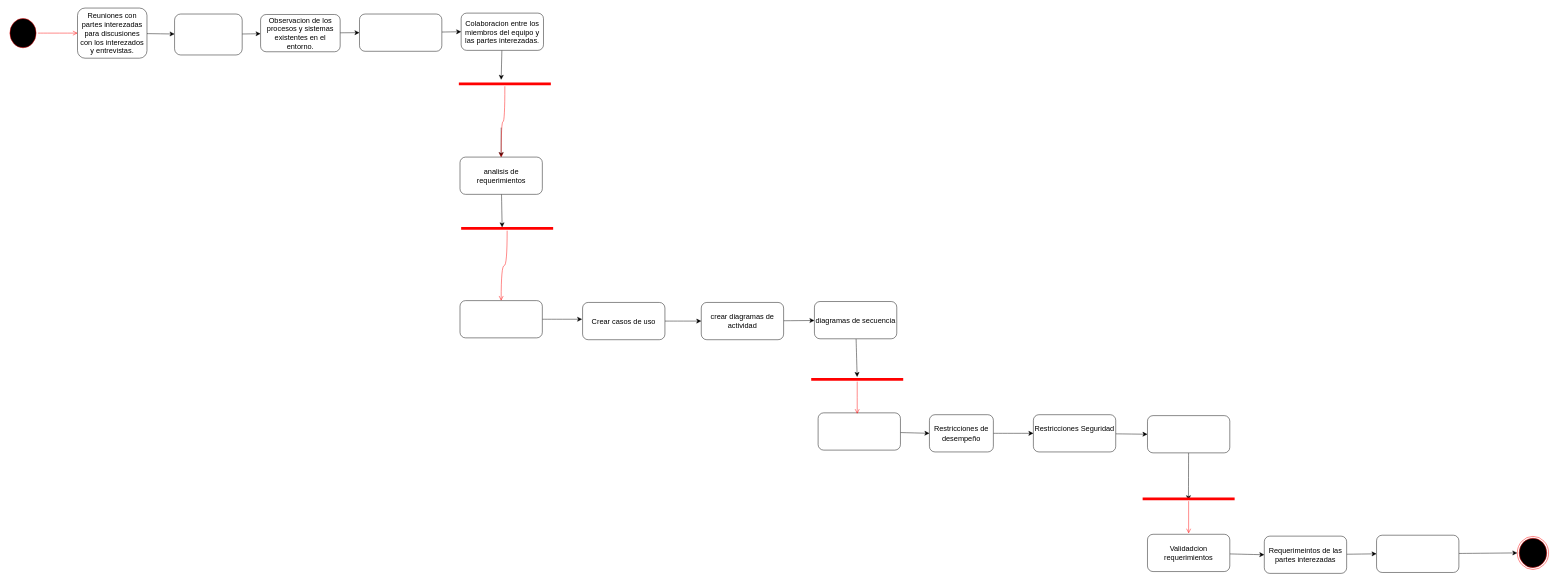
Some shapes in this 1557 by 581 pixel diagram are drawn without their labels. Here are the shapes that lost their labels. From the top down, the box of each, then its label:
(174, 14, 242, 55): Revision de la documentacion
(359, 14, 442, 51): Recopilacion de informacion a través de cuestionarios.
(460, 300, 542, 338): Modelacion y especificacion de requerimientos
(818, 412, 900, 450): Validacion Requerimientos
(1147, 415, 1230, 453): Restriccion de usabilidad
(1376, 535, 1459, 572): aprobar analisis de requerimientos
